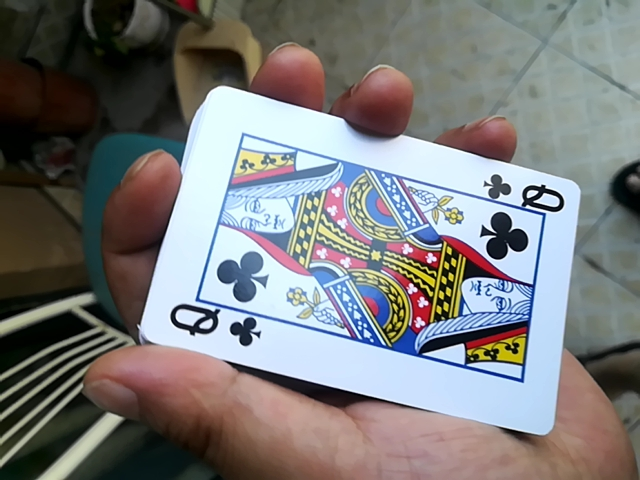mh q: (126, 83, 591, 444)
